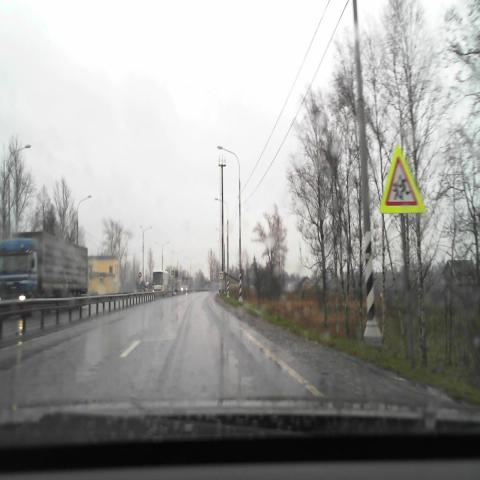1_23: (380, 146, 425, 213)
